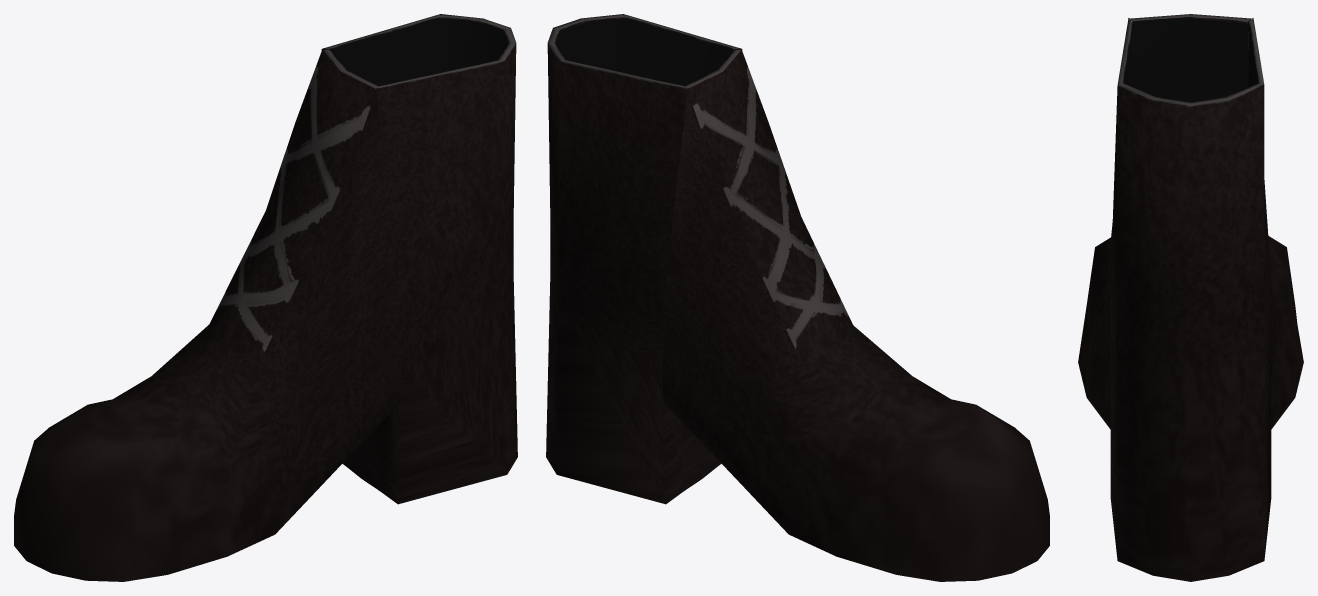
File: BotaArremessavel.fbx
3 views of the same model, side by side, from view 1: azimuth 30°, elevation 25°; view 2: azimuth 150°, elevation 25°; view 3: azimuth 270°, elevation 25° (orthographic). The views are drawn at different scales.
Visible parts, largest first — view 1: BotaArremessavel; view 2: BotaArremessavel; view 3: BotaArremessavel.
Part boxes in pixels (bbox=[...]): BotaArremessavel: bbox=[14, 14, 517, 581]; BotaArremessavel: bbox=[546, 14, 1049, 581]; BotaArremessavel: bbox=[1078, 14, 1303, 581].
Size of the model in its own units: 185 by 151 by 64.93.
